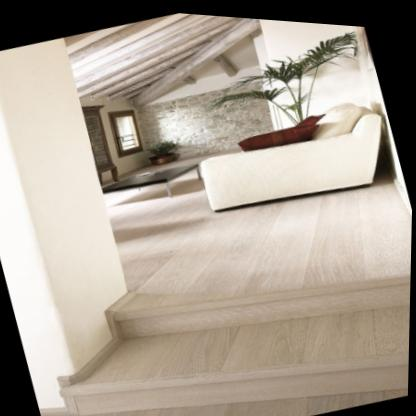Wooden floor: (60, 147, 413, 416)
